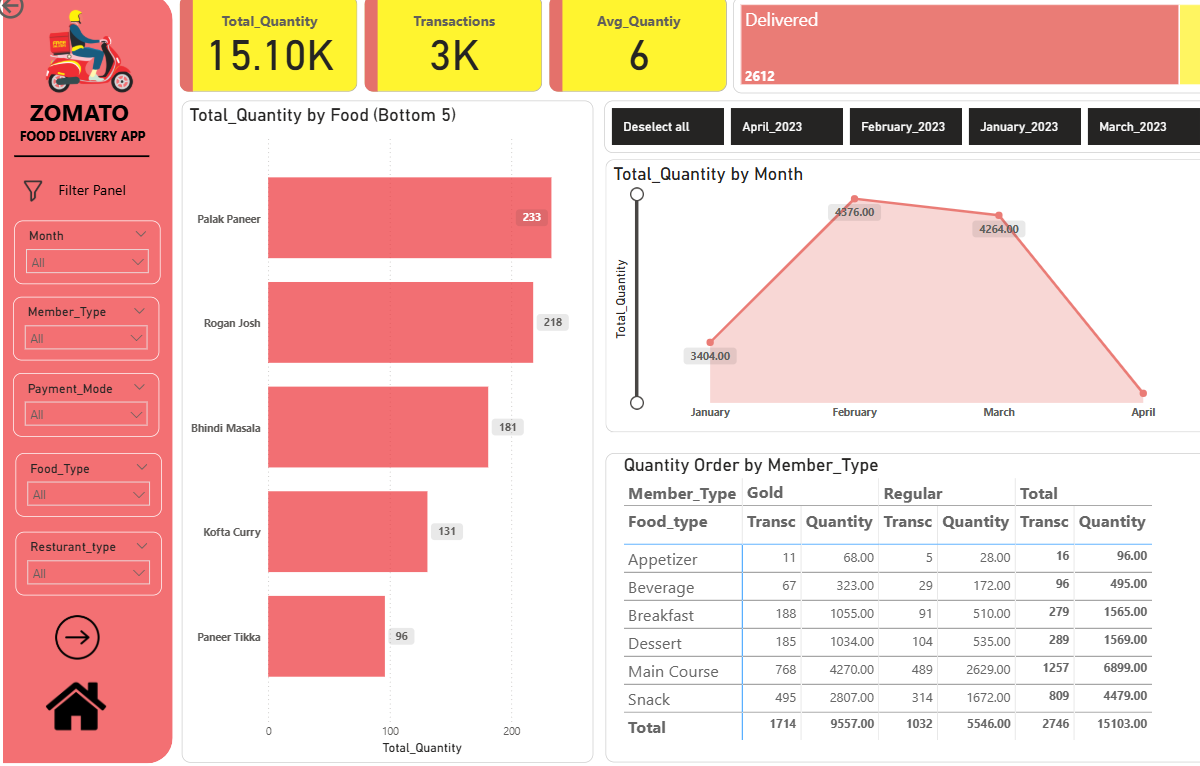

Layout of this report page (visuals, bound fields, positions):
{"tool":"powerbi","page":{"name":"Bottom Analysis_Dashboard","canvas":[1400,900],"ordinal":1},"visuals":[{"type":"shape","box":[11,7,194,879],"z":0},{"type":"textbox","box":[9,118.6,187.6,70.5],"z":1000},{"type":"image","box":[45,7.5,129.1,130.6],"z":2000},{"type":"image","box":[28.8,172.9,34.3,118],"z":3000},{"type":"textbox","box":[50.8,214.1,123.5,31.6],"z":4000},{"type":"shape","box":[24.9,174.6,154.3,35.9],"z":5000},{"type":"cardVisual","fields":{"Data":["Sales Data.Total_Quantity","Sales Data.Transactions","Sales Data.Avg_Quantiy"]},"box":[208.3,8.3,636.7,110],"z":6000},{"type":"clusteredBarChart","title":"Total_Quantity by Food (Bottom 5)","fields":{"Category":["Food_Details.Food"],"Y":["Sales Data.Total_Quantity"]},"box":[215,128.3,470,756.7],"z":7000},{"type":"stackedAreaChart","fields":{"Category":["Sales Data.orderDate.Variation.Date Hierarchy.Month"],"Y":["Sales Data.Total_Quantity"]},"box":[700,195,690,311.7],"z":8000},{"type":"pivotTable","title":"Quantity Order by Member_Type","fields":{"Columns":["Customer Details.member_Type"],"Rows":["Food_Details.Type"],"Values":["Sales Data.Transactions","Sales Data.Total_Quantity"]},"box":[700,531.7,690,353.3],"z":9000},{"type":"actionButton","box":[0,0,100,40],"z":10000},{"type":"slicer","fields":{"Values":["Sales Data.orderDate.Variation.Date Hierarchy.Month"]},"box":[23.8,266.2,167.5,72.5],"z":11000},{"type":"slicer","fields":{"Values":["Customer Details.member_Type"]},"box":[22.9,352.9,167.1,72.9],"z":12000},{"type":"slicer","fields":{"Values":["Sales Data.payment_method"]},"box":[22.9,440,167.1,72.9],"z":13000},{"type":"slicer","fields":{"Values":["Food_Details.Type"]},"box":[25.7,531.4,167.1,72.9],"z":14000},{"type":"slicer","fields":{"Values":["Resturant_Details.Resturant_type"]},"box":[25.7,621.4,167.1,72.9],"z":15000},{"type":"image","box":[62.9,708.6,67.1,67.1],"z":16000},{"type":"image","box":[55.7,780,78.6,81.4],"z":17000},{"type":"advancedSlicerVisual","fields":{"Values":["Sales Data.Month and Year"]},"box":[698.3,128.3,691.7,60],"z":18000},{"type":"treemap","fields":{"Group":["Sales Data.deliver_status"],"Values":["Sales Data.Transactions"]},"box":[845,10,545,110],"z":19000}]}

Visuals, with their boxes in screenshot pixels (x1, y1, x2, y2), scaled from the page's 1400x900 canvas onto the 1200x766 screenshot:
shape: bbox(9, 6, 176, 754)
textbox: bbox(8, 101, 169, 161)
image: bbox(39, 6, 149, 118)
image: bbox(25, 147, 54, 248)
textbox: bbox(44, 182, 149, 209)
shape: bbox(21, 149, 154, 179)
cardVisual - Sales Data.Total_Quantity x Sales Data.Transactions: bbox(179, 7, 724, 101)
"Total_Quantity by Food (Bottom 5)" clusteredBarChart: bbox(184, 109, 587, 753)
stackedAreaChart - Sales Data.orderDate.Variation.Date Hierarchy.Month x Sales Data.Total_Quantity: bbox(600, 166, 1191, 431)
"Quantity Order by Member_Type" pivotTable: bbox(600, 453, 1191, 753)
actionButton: bbox(0, 0, 86, 34)
slicer - Sales Data.orderDate.Variation.Date Hierarchy.Month: bbox(20, 227, 164, 288)
slicer - Customer Details.member_Type: bbox(20, 300, 163, 362)
slicer - Sales Data.payment_method: bbox(20, 374, 163, 437)
slicer - Food_Details.Type: bbox(22, 452, 165, 514)
slicer - Resturant_Details.Resturant_type: bbox(22, 529, 165, 591)
image: bbox(54, 603, 111, 660)
image: bbox(48, 664, 115, 733)
advancedSlicerVisual - Sales Data.Month and Year: bbox(599, 109, 1191, 160)
treemap - Sales Data.deliver_status x Sales Data.Transactions: bbox(724, 9, 1191, 102)
